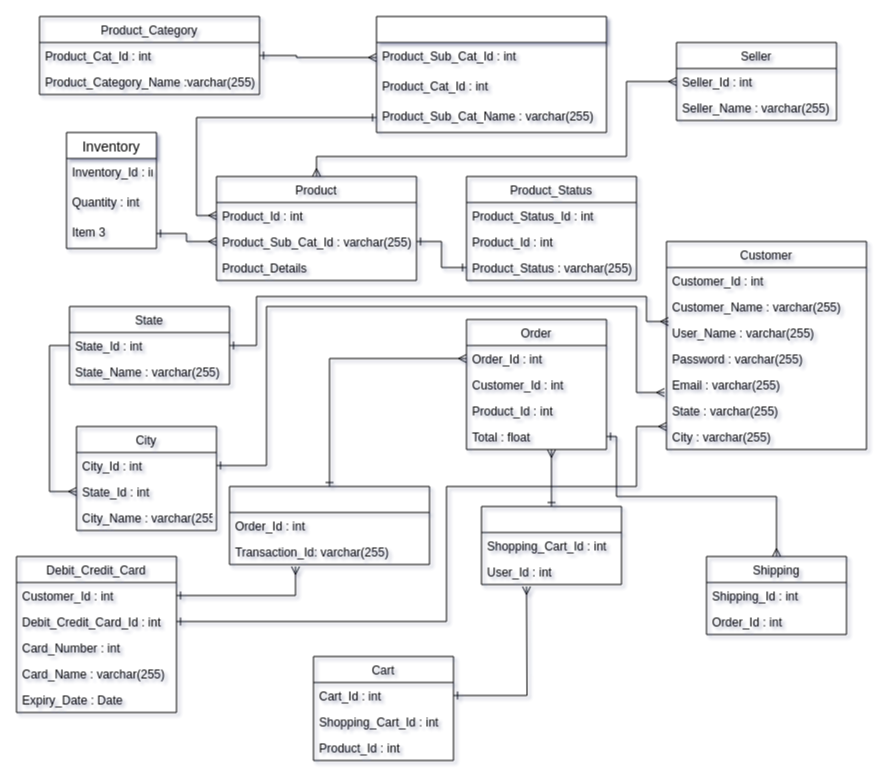
The diagram is 883 pixels wide and 777 high, and some of its shapes have lost their labels. The shapes that lost their labels are listed below. From the top down, each one's box as (x1, y1, x2, y2) in pixels, then its label:
(376, 16, 606, 132): Product_Sub_Category
(228, 486, 430, 564): PaymentDetails
(480, 506, 622, 584): Shoppping_Cart
